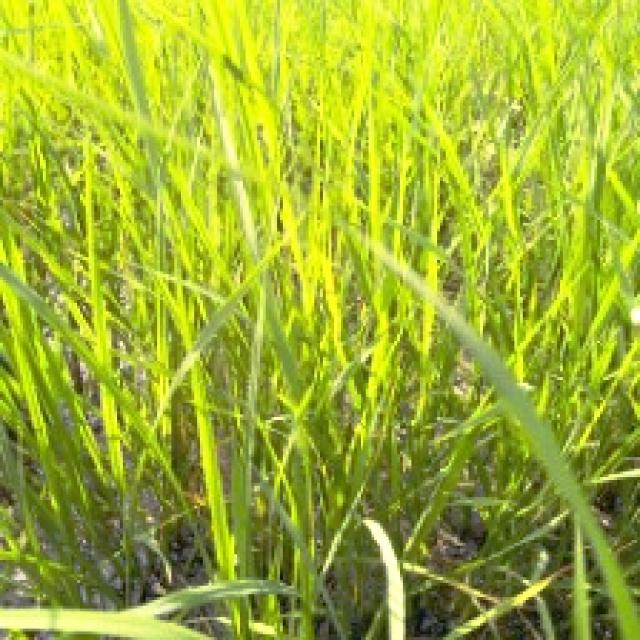health: (0, 0, 601, 618)
